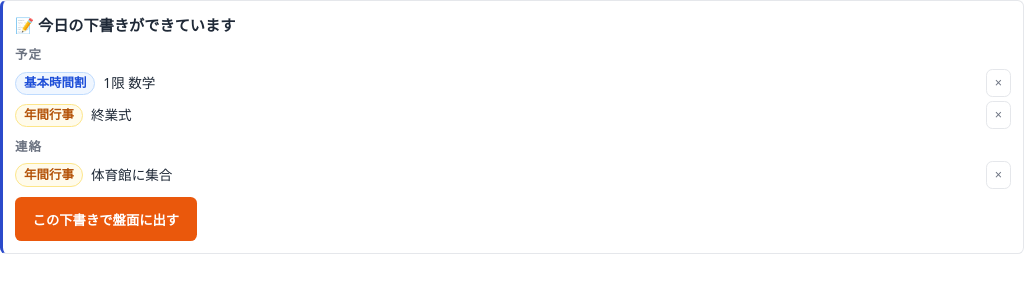
Scenario: MorningDraftCard（朝ドラフト確定カード） › 保存失敗時はナビゲーションも undo 登録もせずエラーを出す
The image size is (1024, 297).
Click the button "この下書きで盤面に出す".
click(106, 219)  # box [15, 197, 197, 241]
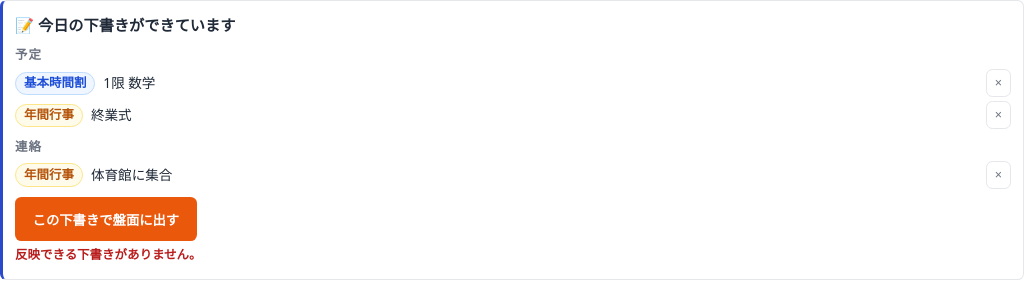
Check: the text "反映できる下書きがありません。" is shown, box [15, 246, 201, 263]
